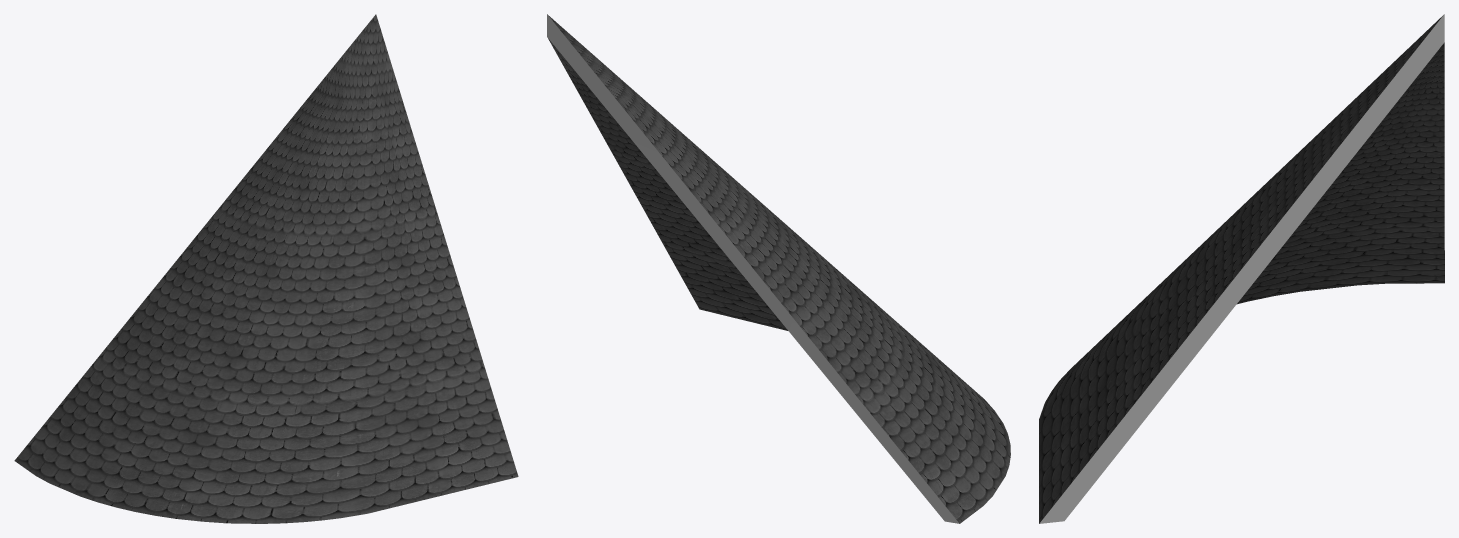
File: SM_Roof_C_002.FBX
3 renders of one model, left to right at view 1: azimuth 30°, elevation 25°; view 2: azimuth 150°, elevation 25°; view 3: azimuth 270°, elevation 25°, orthographic. The views are drawn at different scales.
Visible parts, largest first — view 1: SM_Roof_C_002; view 2: SM_Roof_C_002; view 3: SM_Roof_C_002.
Boxes of the visible parts, left/top/right/bottom form: SM_Roof_C_002: left=14, top=14, right=518, bottom=523; SM_Roof_C_002: left=547, top=14, right=1010, bottom=523; SM_Roof_C_002: left=1039, top=14, right=1444, bottom=523.
Bounding box in the file's own units: 950 × 902 × 649.
